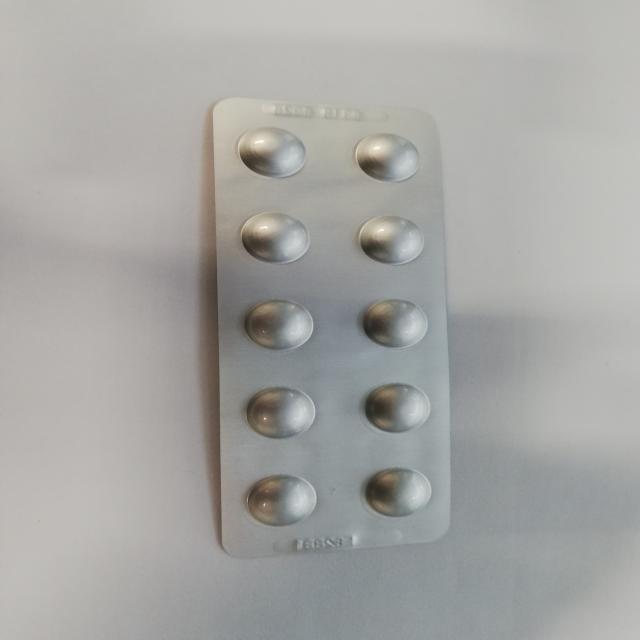Pill: (219, 116, 322, 184), (239, 464, 328, 536), (232, 379, 324, 447), (350, 376, 439, 441), (359, 456, 441, 525), (234, 203, 320, 268), (343, 128, 426, 193), (239, 296, 326, 355), (350, 294, 431, 350), (350, 214, 428, 269)
